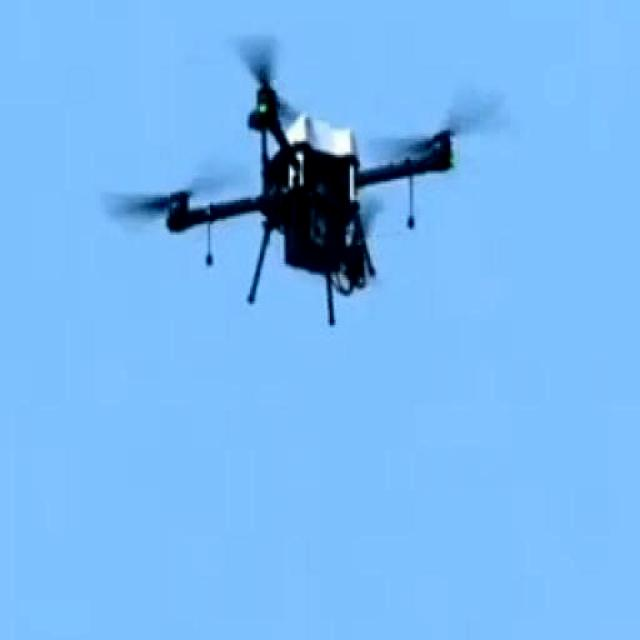bird: (121, 28, 485, 332)
